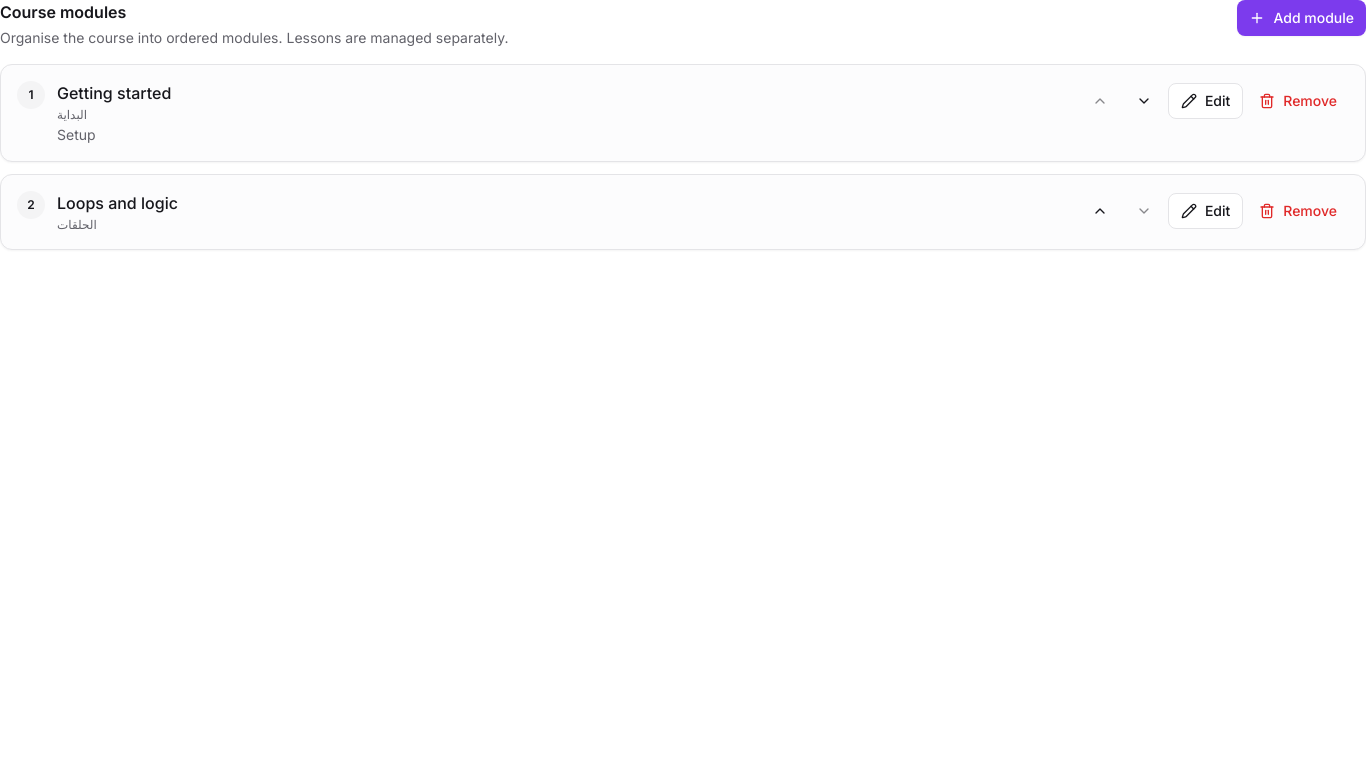
ModulesManager › does not remove when the confirmation is cancelled
Click the button "Remove" in the row of "Getting started" at (1298, 101), box [1247, 83, 1349, 119]
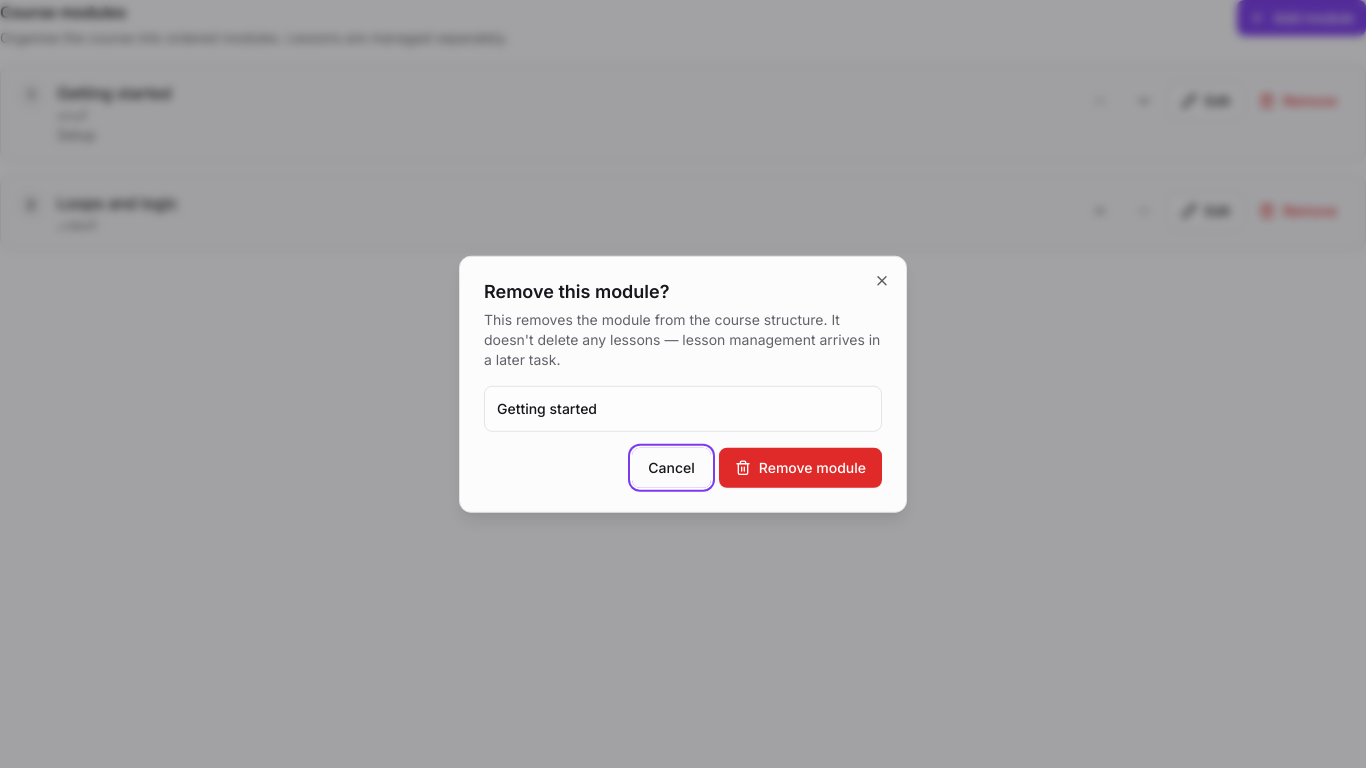
Result: the heading "Remove this module?" is shown at [484, 281, 670, 302]
Click the button "Cancel" at (672, 467), box [632, 447, 711, 487]
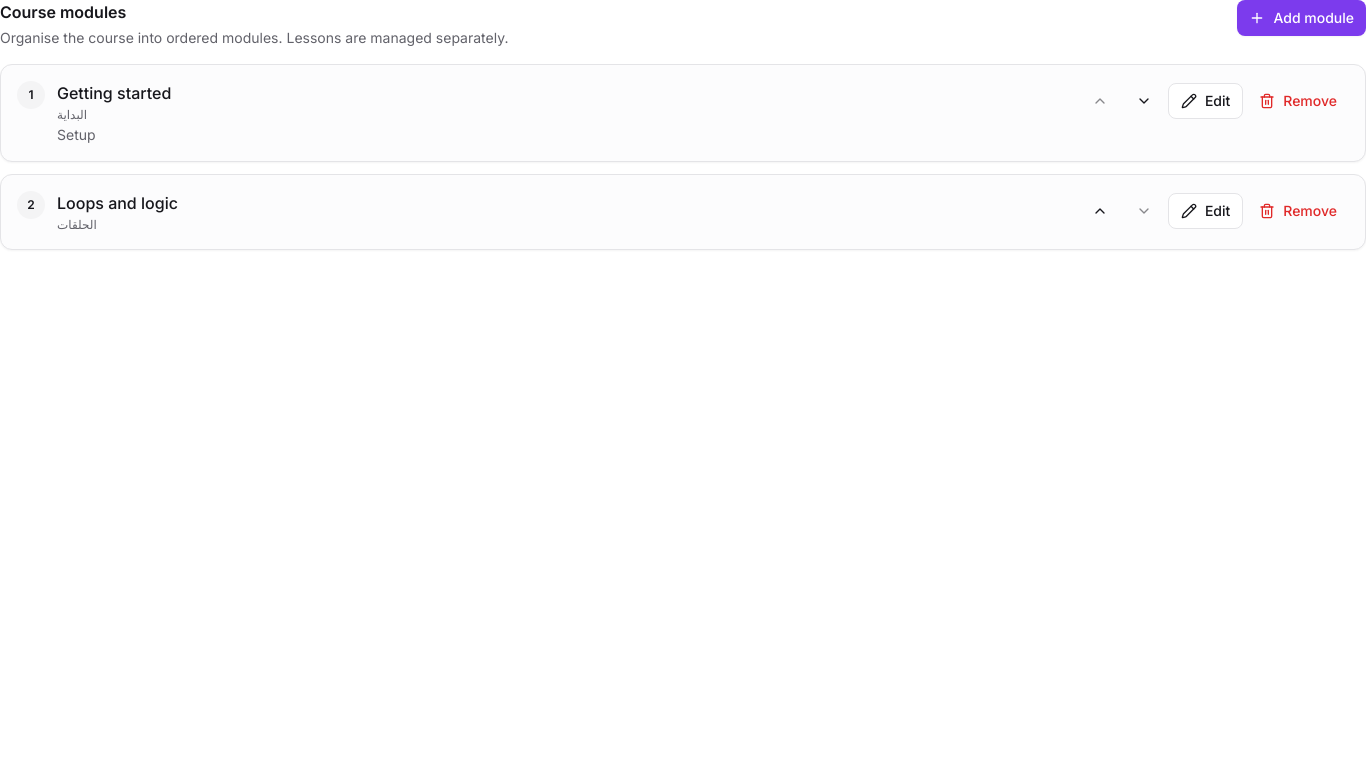
Result: the heading "Remove this module?" is gone
